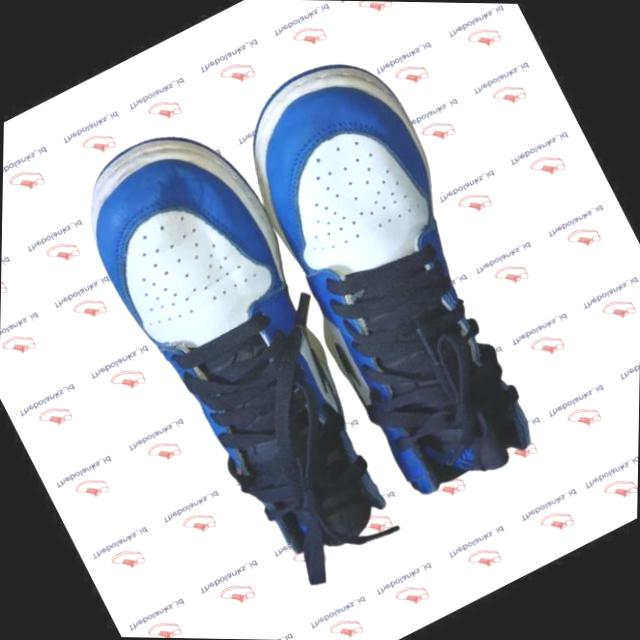nike_fake_jordan: (195, 31, 586, 535), (52, 97, 434, 596)
